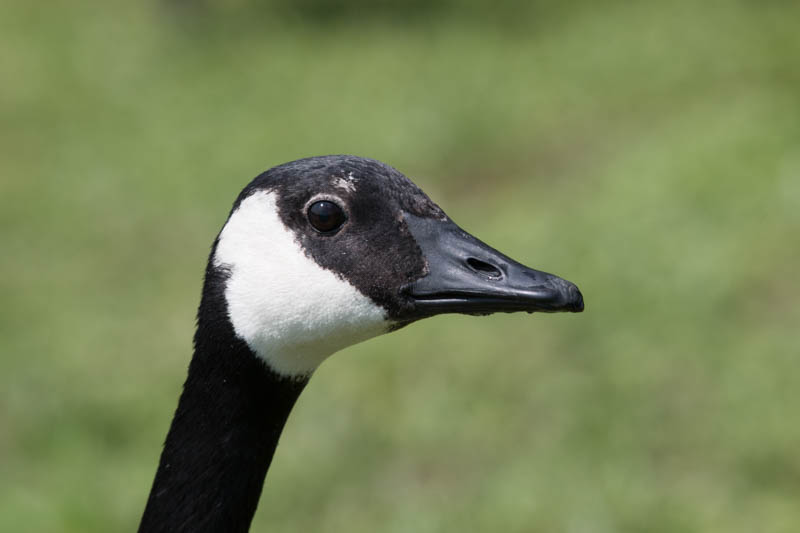goose-head: (202, 156, 585, 377)
